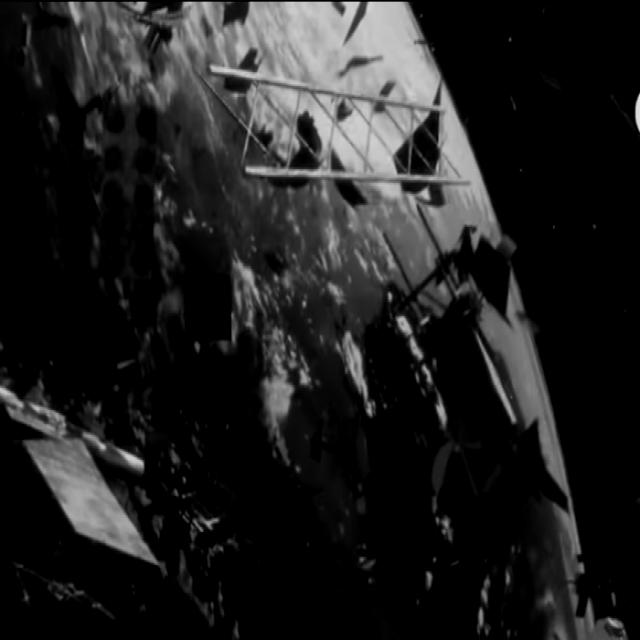large_debris: (362, 222, 576, 594), (0, 371, 178, 605), (205, 50, 480, 201), (86, 89, 173, 308), (178, 250, 248, 366)
